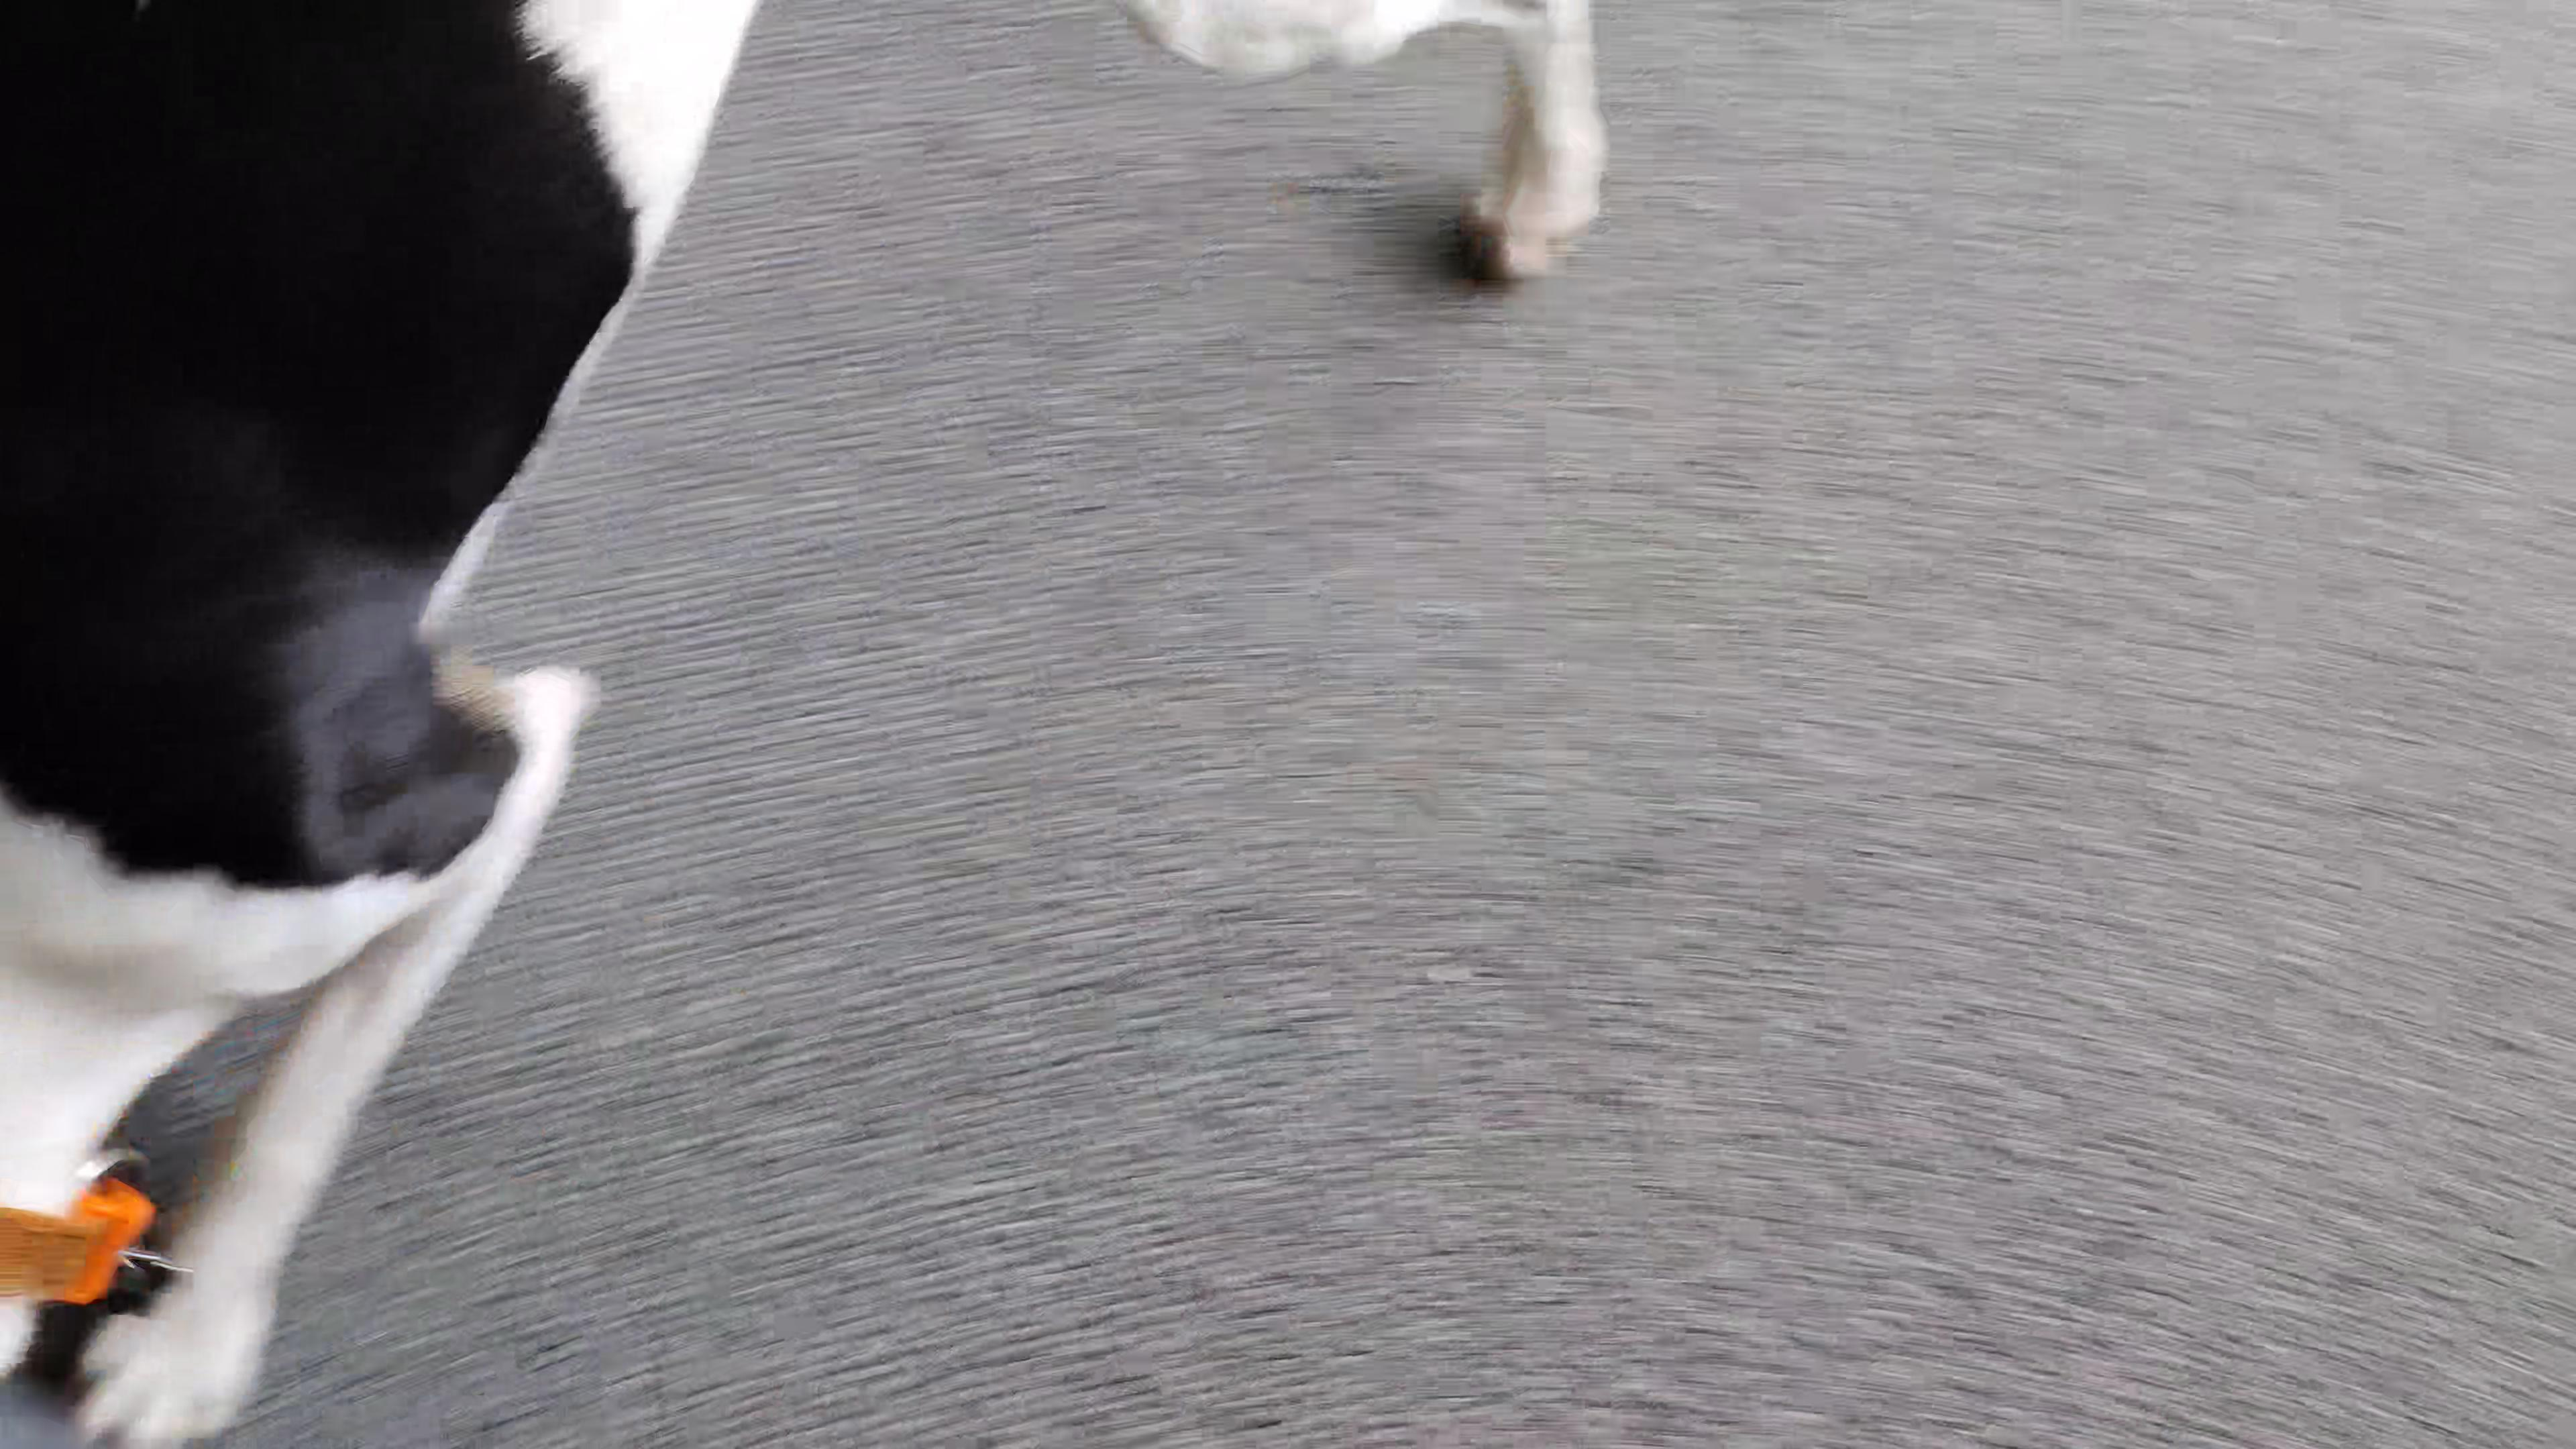Dog: (0, 0, 1644, 1449)
